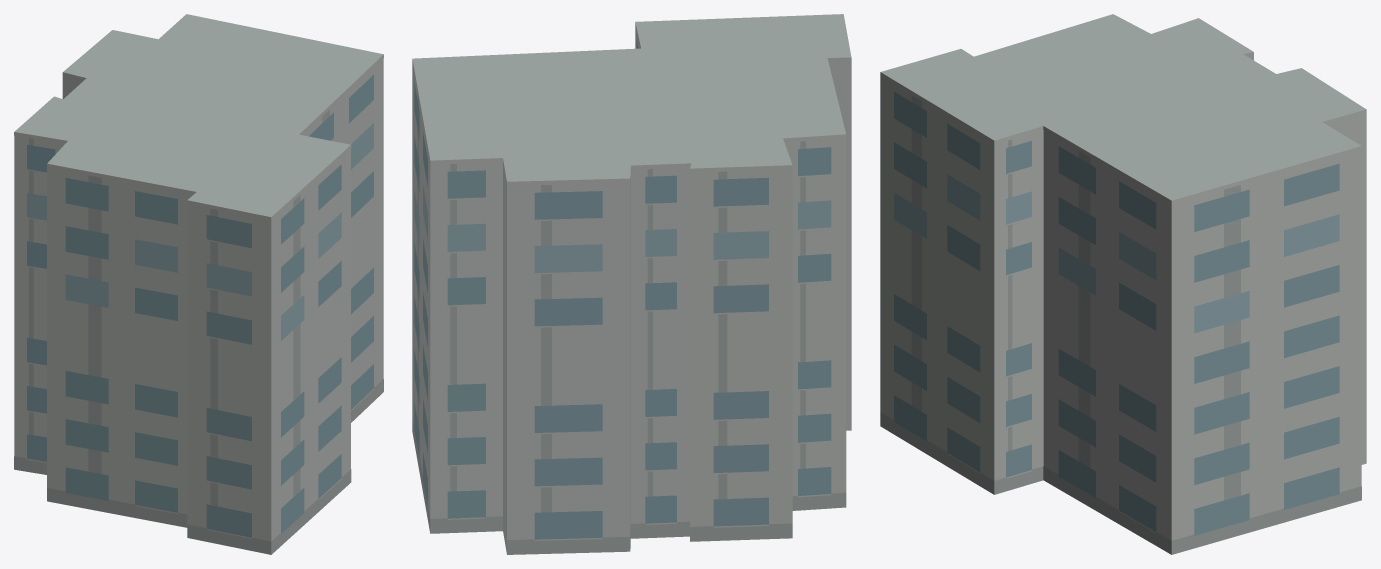
Rendered from survey-upis-32837206.glb.
The picture shows the model from 3 angles, left to right: view 1: azimuth 30°, elevation 25°; view 2: azimuth 150°, elevation 25°; view 3: azimuth 270°, elevation 25°; orthographic projection. The views are drawn at different scales.
Visible parts, largest first — view 1: survey-upis-32837206.tmp; view 2: survey-upis-32837206.tmp; view 3: survey-upis-32837206.tmp.
Boxes of the visible parts, x1,y1,x2,y2 form: survey-upis-32837206.tmp: [14, 14, 383, 554]; survey-upis-32837206.tmp: [412, 14, 851, 554]; survey-upis-32837206.tmp: [880, 14, 1366, 554].
Bounding box in the file's own units: 24.14 × 21.35 × 26.56.
